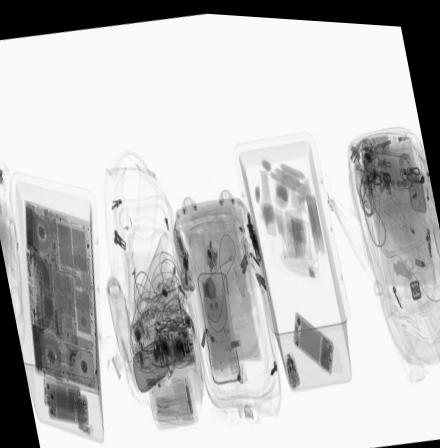Lighter: (396, 130, 411, 137)
